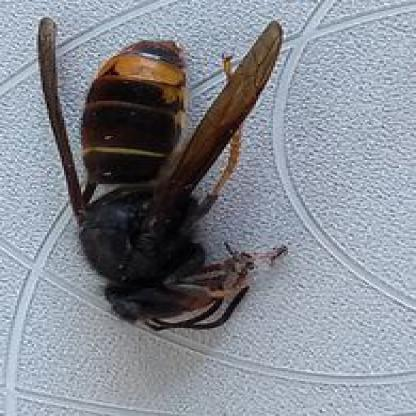Asian Hornet: (30, 14, 286, 336)
